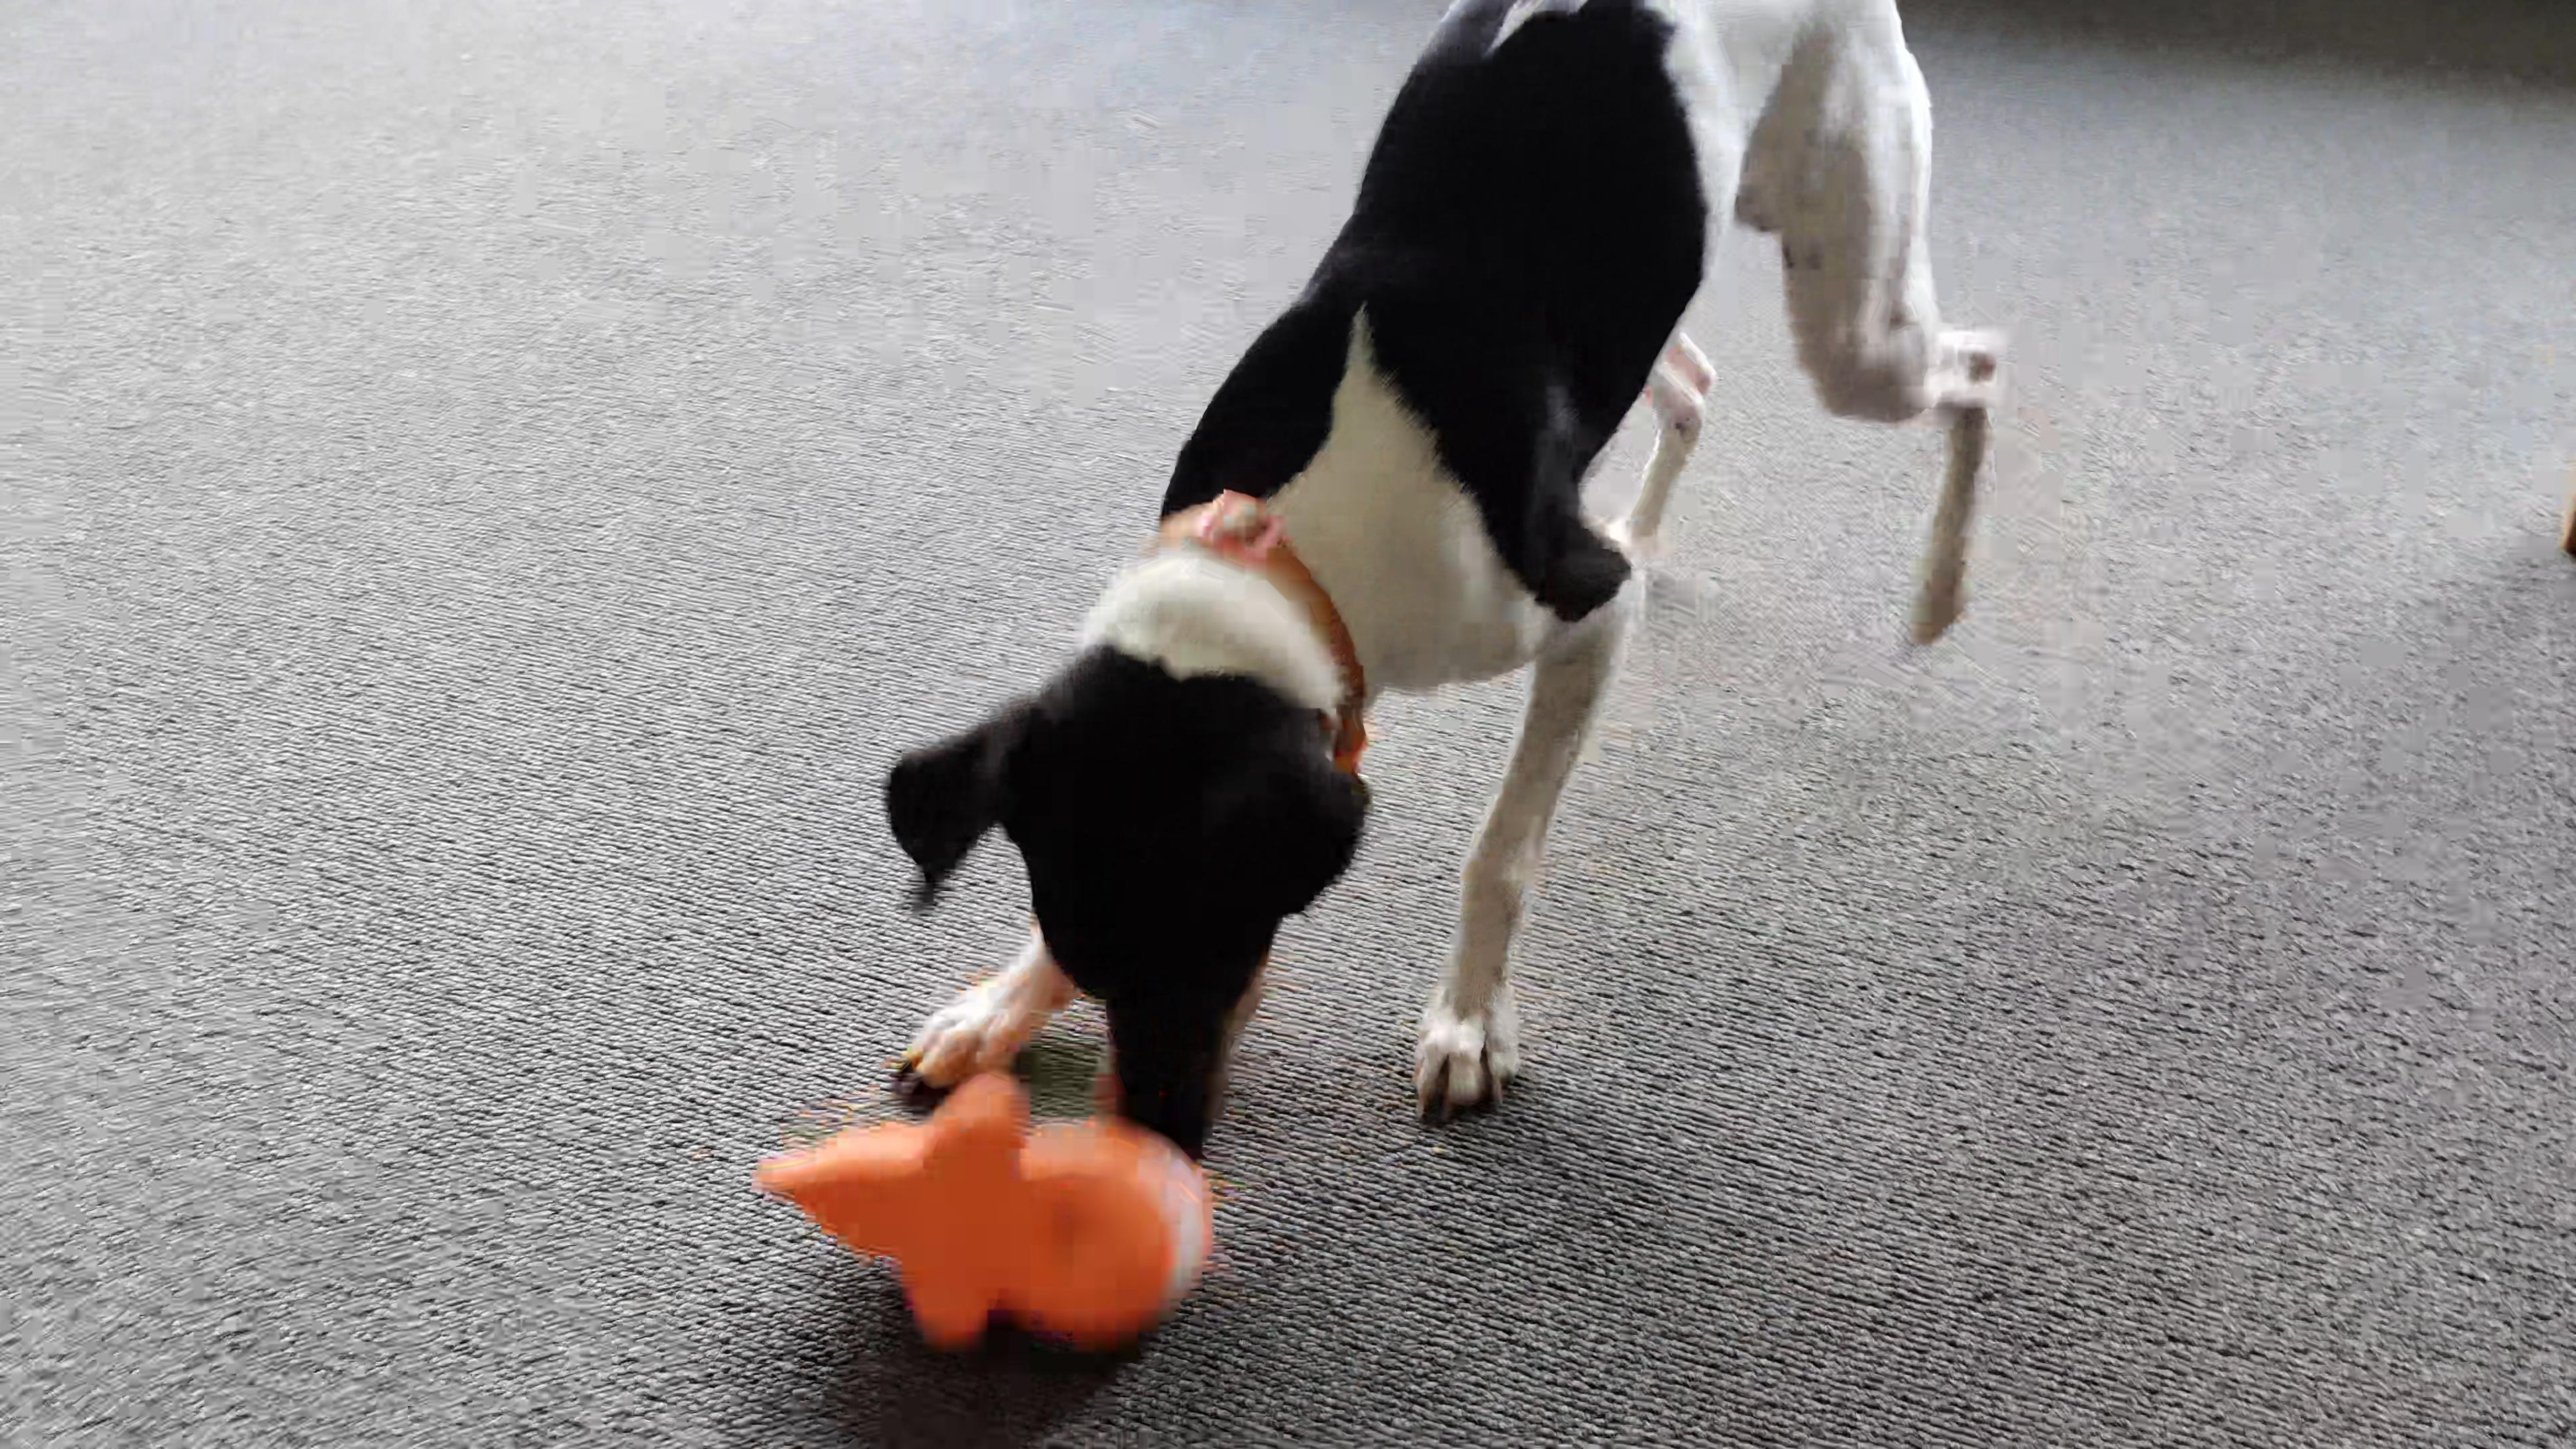Dog: (869, 0, 2070, 1192)
